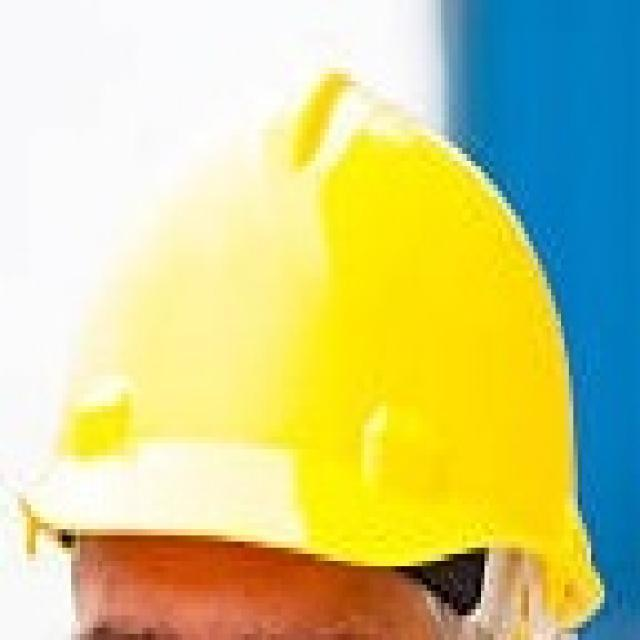Helmet: (2, 49, 639, 637)
